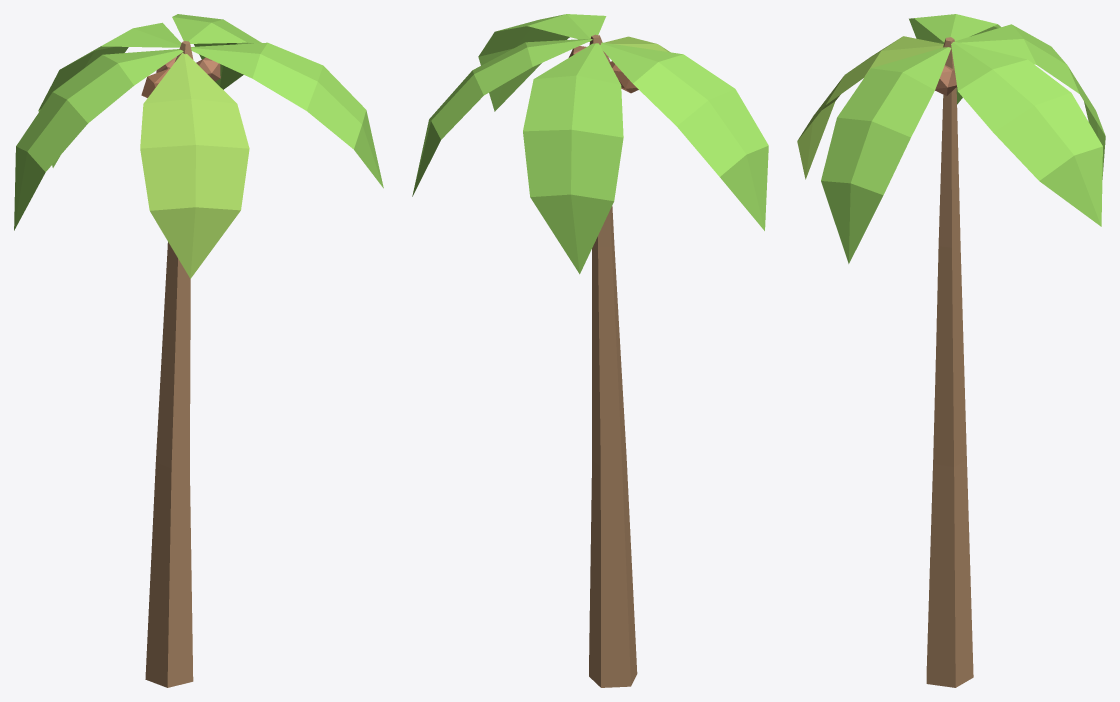
The model's file is Palm_Tree_Coconut_s_01_LOD.fbx.
3 views of the same model, side by side, from view 1: azimuth 30°, elevation 25°; view 2: azimuth 150°, elevation 25°; view 3: azimuth 270°, elevation 25° (orthographic). The views are drawn at different scales.
Visible parts, largest first — view 1: Palm_Tree_Coconut_s_01_LOD0; view 2: Palm_Tree_Coconut_s_01_LOD0; view 3: Palm_Tree_Coconut_s_01_LOD0.
Boxes of the visible parts, x1,y1,x2,y2 form: Palm_Tree_Coconut_s_01_LOD0: (14, 14, 383, 687); Palm_Tree_Coconut_s_01_LOD0: (412, 14, 768, 687); Palm_Tree_Coconut_s_01_LOD0: (797, 14, 1105, 687).
Size of what is drawn, in the model's own units: 246 by 465 by 201.
